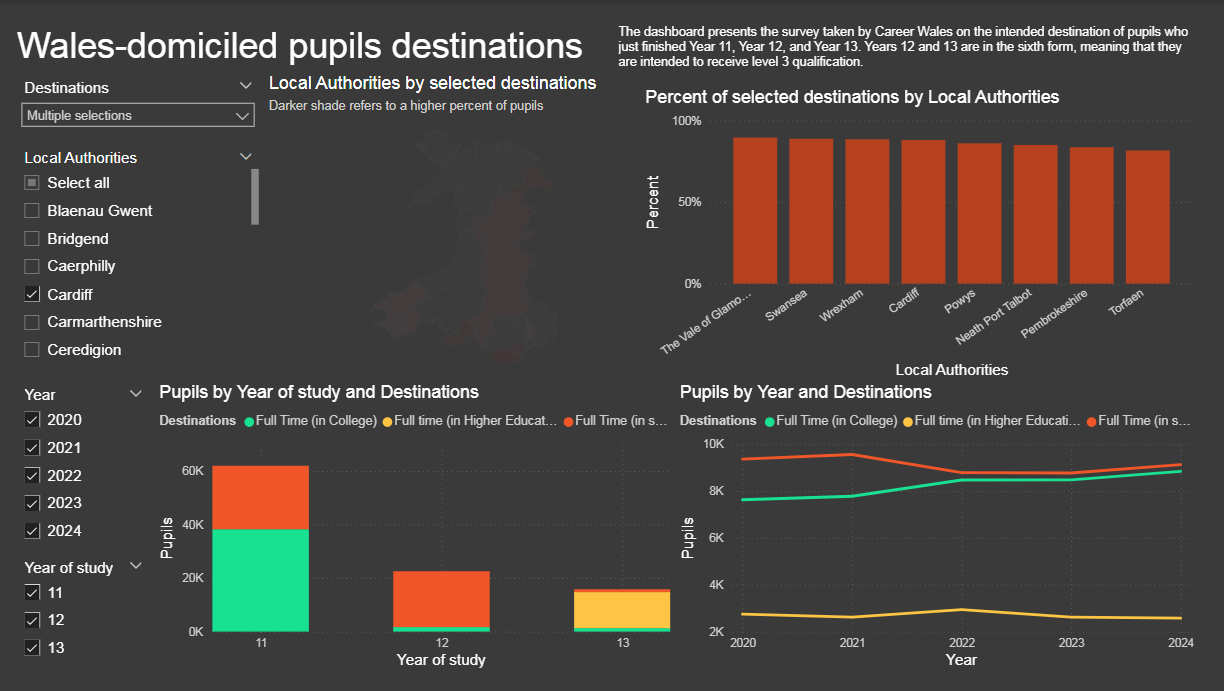

This screenshot's page, from the dashboard's own definition file:
{"tool":"powerbi","page":{"name":"Page 5","canvas":[1280,720],"ordinal":4},"visuals":[{"type":"shapeMap","title":"Local Authorities by selected destinations","fields":{"Category":["pupil destination.LEA"],"Value":["pupil destination.SelectedDestination_%"]},"box":[278.4,76.3,392.9,321.3],"z":0},{"type":"columnChart","fields":{"Category":["pupil destination.Regions"],"Y":["pupil destination.SelectedDestination_%"]},"box":[671.2,90.7,580.6,308.6],"z":1000},{"type":"columnChart","fields":{"Category":["pupil destination.Year of study"],"Y":["Sum(pupil destination.Value)"],"Series":["pupil destination.Attribute"]},"box":[163.8,399.2,542.4,302.2],"z":3000},{"type":"lineChart","fields":{"Category":["pupil destination.Year"],"Y":["Sum(pupil destination.Value)"],"Series":["pupil destination.Attribute"]},"box":[706.2,399.2,545.6,302.2],"z":4000},{"type":"slicer","fields":{"Values":["pupil destination.Year"]},"box":[15.9,397.7,147.9,179.7],"z":5000},{"type":"slicer","fields":{"Values":["pupil destination.Attribute"]},"box":[15.9,76.3,262.5,58.9],"z":6000},{"type":"slicer","fields":{"Values":["pupil destination.Year of study"]},"box":[15.9,577.4,147.9,124.1],"z":7000},{"type":"slicer","fields":{"Values":["pupil destination.LEA"]},"box":[15.9,149.5,262.5,229],"z":8000},{"type":"textbox","box":[15.9,20.7,621.9,55.7],"z":9000},{"type":"textbox","box":[642.6,20.7,609.2,70],"z":10000}]}

Visuals, with their boxes in screenshot pixels (x1, y1, x2, y2), scaled from the page's 1280x720 canvas onto the 1224x691 screenshot:
"Local Authorities by selected destinations" shapeMap: (266, 73, 642, 382)
columnChart - pupil destination.Regions x pupil destination.SelectedDestination_%: (642, 87, 1197, 383)
columnChart - pupil destination.Year of study x Sum(pupil destination.Value): (157, 383, 675, 673)
lineChart - pupil destination.Year x Sum(pupil destination.Value): (675, 383, 1197, 673)
slicer - pupil destination.Year: (15, 382, 157, 554)
slicer - pupil destination.Attribute: (15, 73, 266, 130)
slicer - pupil destination.Year of study: (15, 554, 157, 673)
slicer - pupil destination.LEA: (15, 143, 266, 363)
textbox: (15, 20, 610, 73)
textbox: (614, 20, 1197, 87)
